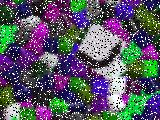Left: (74, 22, 127, 78)
